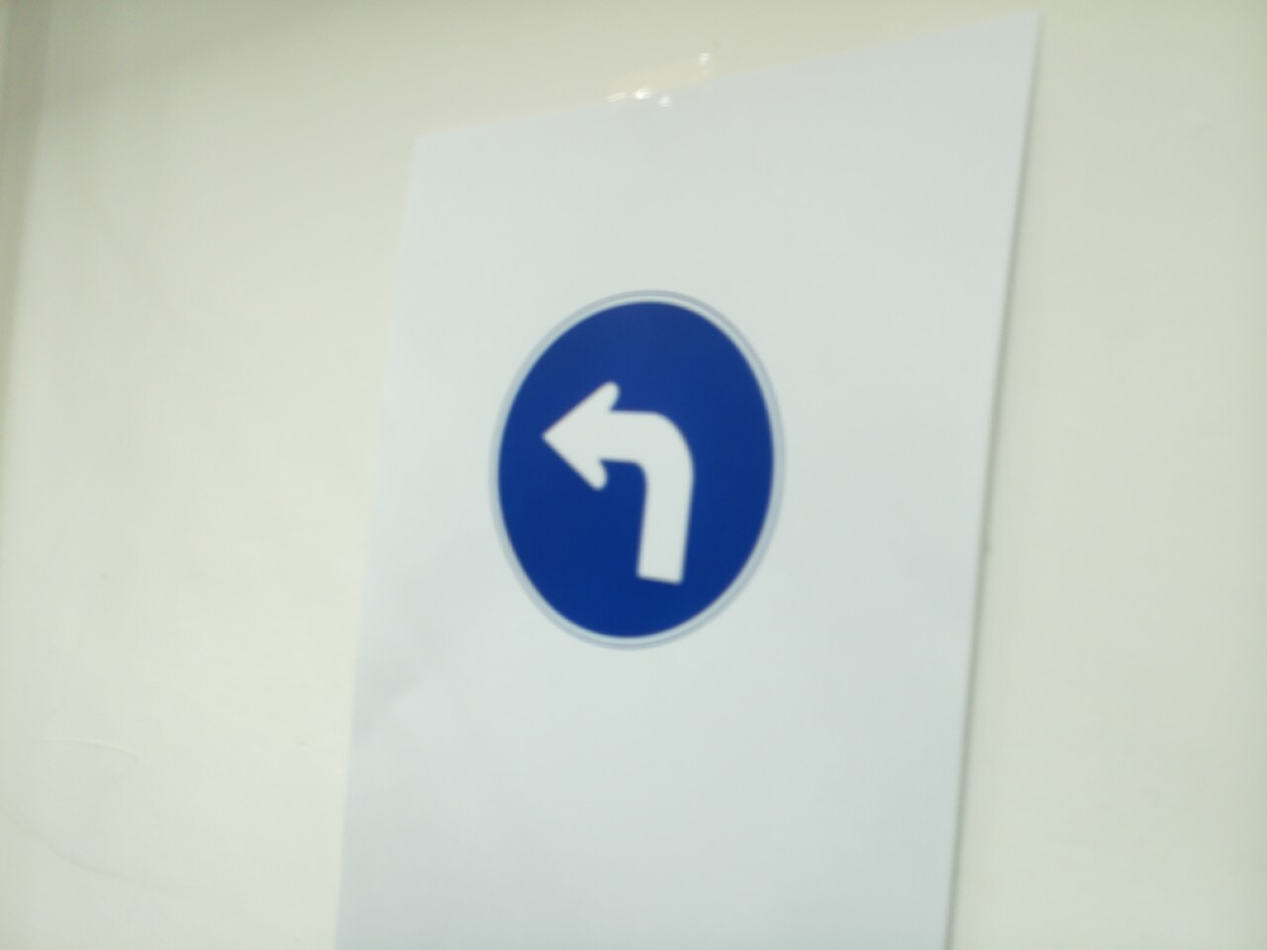left_turn: (489, 292, 783, 648)
